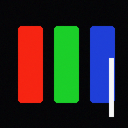4 line_v: (109, 58, 113, 116)
